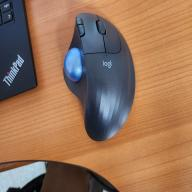mouse: (63, 12, 135, 142)
